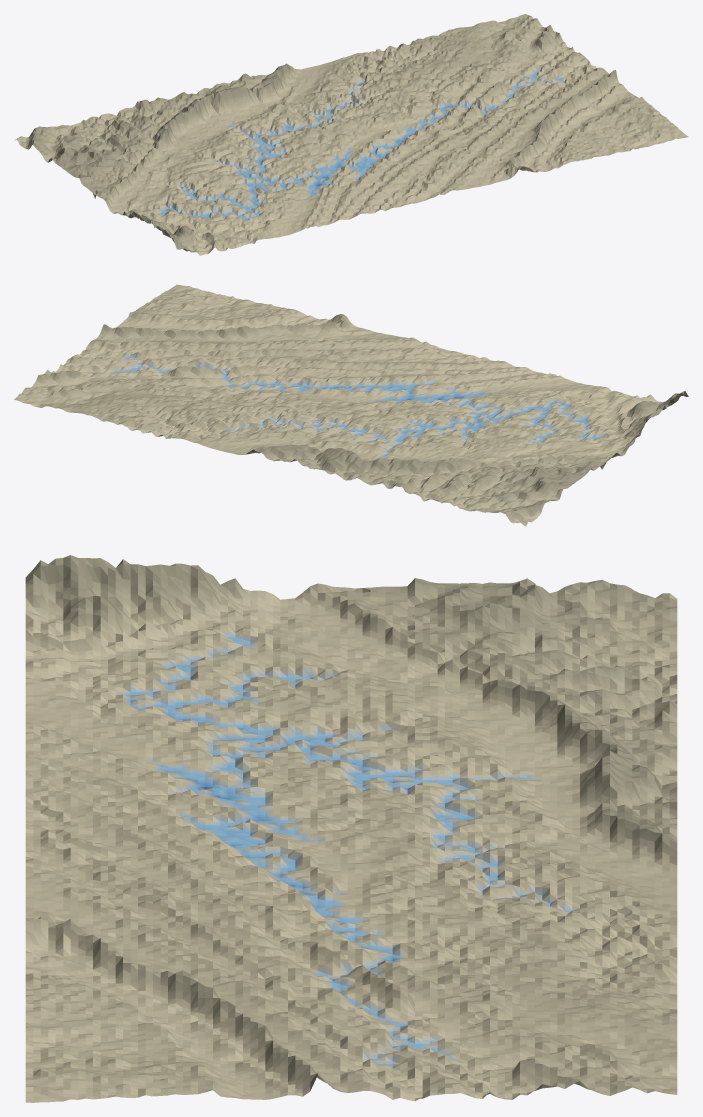
Rendered from norris_lake_tn.glb.
3 views of the same model, one above another, from view 1: azimuth 30°, elevation 25°; view 2: azimuth 150°, elevation 25°; view 3: azimuth 270°, elevation 25° (orthographic). The views are drawn at different scales.
Visible parts, largest first — view 1: terrain, water; view 2: terrain, water; view 3: terrain, water.
Boxes of the visible parts, x1,y1,x2,y2 form: terrain: (14, 14, 688, 255); water: (161, 73, 536, 219); terrain: (14, 284, 688, 526); water: (126, 366, 601, 443); terrain: (25, 555, 677, 1102); water: (130, 636, 549, 1050).
Size of the model in its own units: 68275 by 3182 by 37608.
